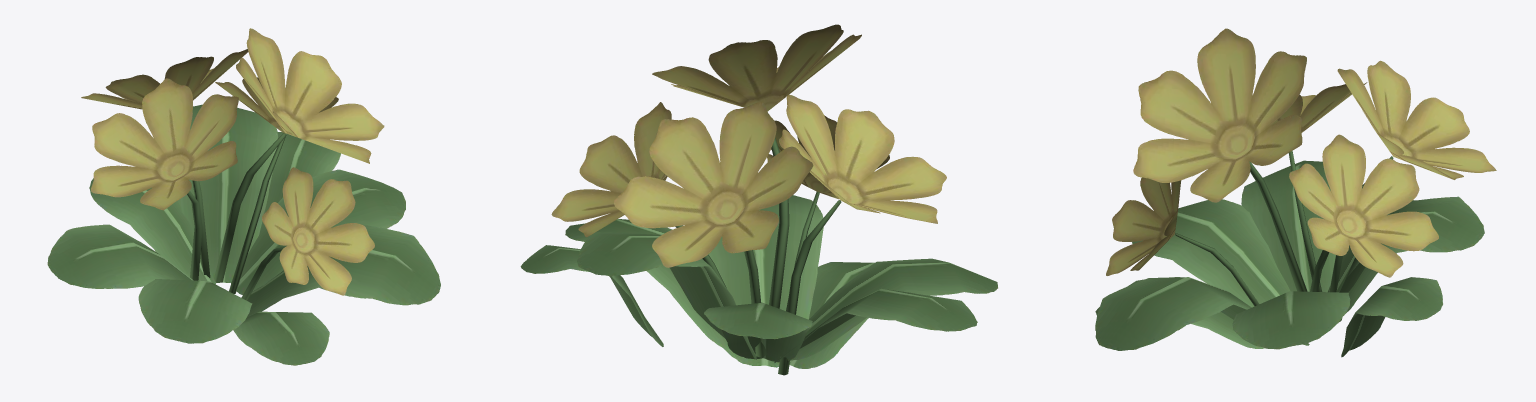
The model's file is plant_flowers.glb.
The picture shows the model from 3 angles, left to right: view 1: azimuth 30°, elevation 25°; view 2: azimuth 150°, elevation 25°; view 3: azimuth 270°, elevation 25°; orthographic projection. The views are drawn at different scales.
Parts seen in each view (by area): view 1: Plant_Flowers; view 2: Plant_Flowers; view 3: Plant_Flowers.
Boxes of the visible parts, box(x1,y1,x2,y2) form: Plant_Flowers: box(47, 28, 440, 365); Plant_Flowers: box(520, 24, 997, 375); Plant_Flowers: box(1095, 28, 1496, 357).
Bounding box in the file's own units: 1.48 × 1.18 × 1.53.
1 material, 1 textured.
